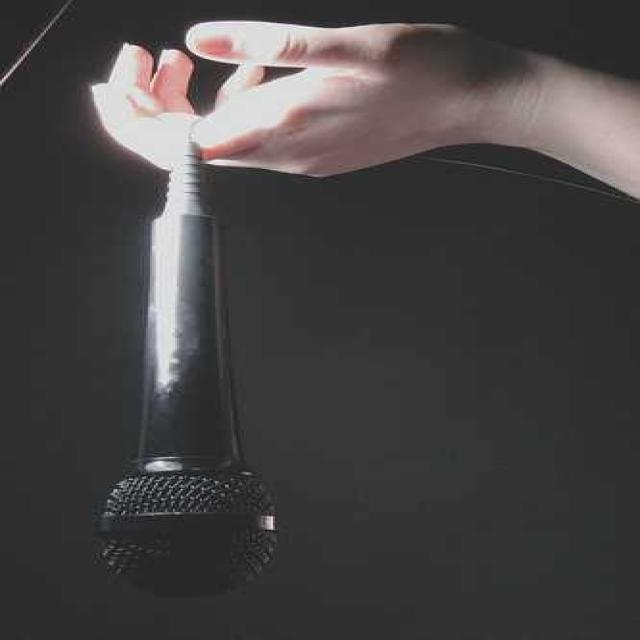microphone: (110, 134, 276, 592)
